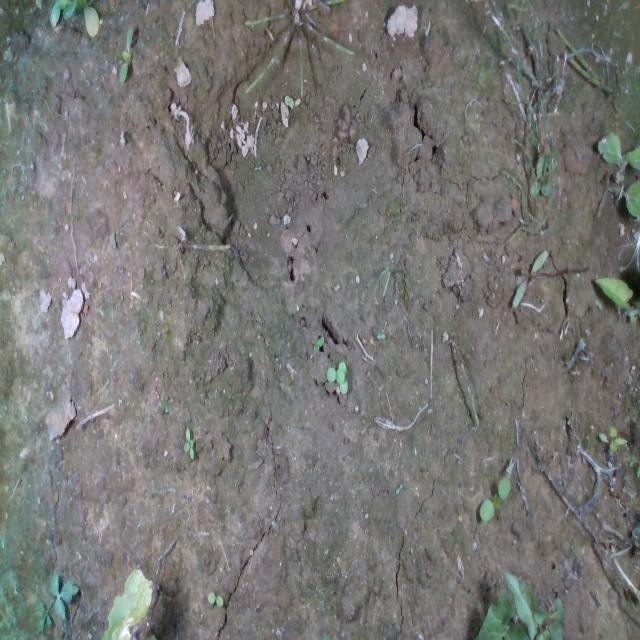weed: (478, 474, 512, 522), (117, 26, 133, 85), (597, 423, 627, 453), (180, 424, 208, 456), (208, 592, 222, 608)
